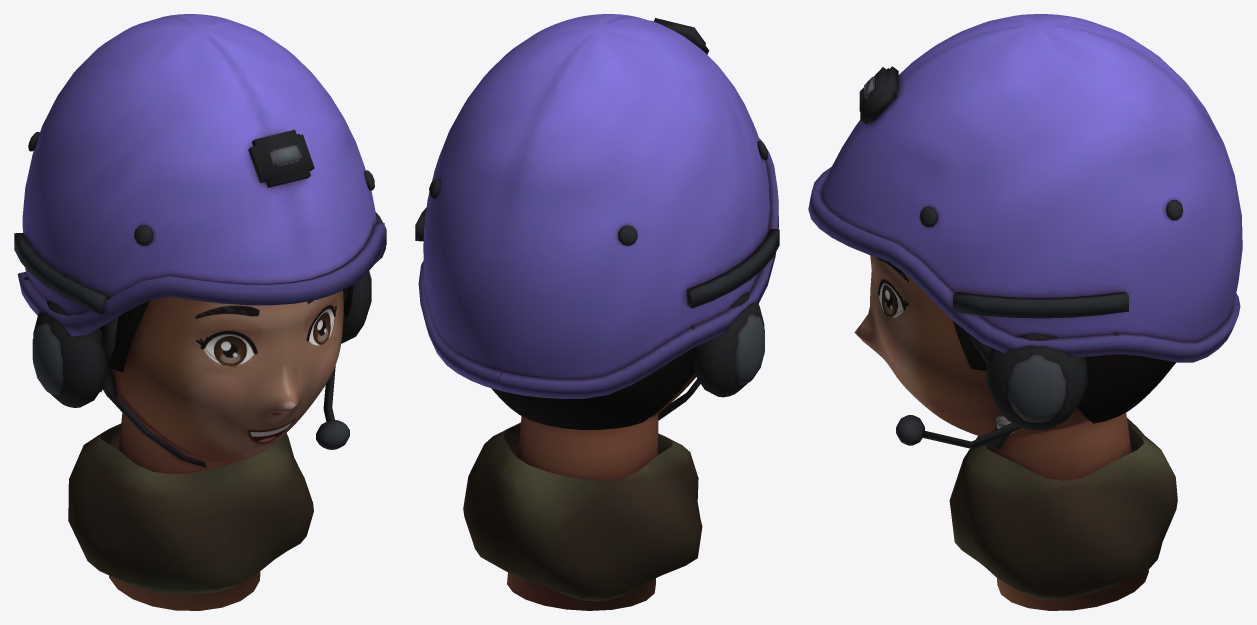
Rendered from cabeza-gunner-f.glb.
The picture shows the model from 3 angles, left to right: view 1: azimuth 30°, elevation 25°; view 2: azimuth 150°, elevation 25°; view 3: azimuth 270°, elevation 25°; orthographic projection. The views are drawn at different scales.
Parts seen in each view (by area): view 1: h_Head; view 2: h_Head; view 3: h_Head.
Boxes of the visible parts, left/top/right/bottom form: h_Head: left=14, top=14, right=386, bottom=610; h_Head: left=415, top=14, right=779, bottom=610; h_Head: left=808, top=14, right=1242, bottom=610.
Bounding box in the file's own units: 0.2338 × 0.3849 × 0.2709.
1 material, 1 textured.
